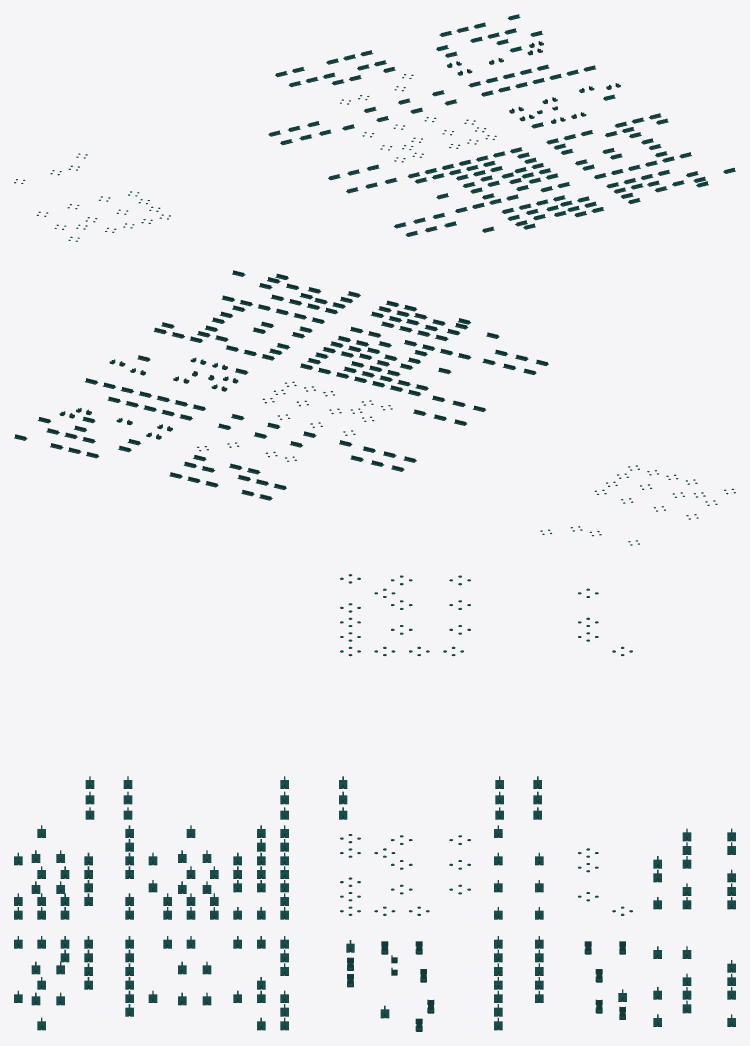
File: seat_teal.dae
The picture shows the model from 3 angles, top to bottom: view 1: azimuth 30°, elevation 25°; view 2: azimuth 150°, elevation 25°; view 3: azimuth 270°, elevation 25°; orthographic projection. The views are drawn at different scales.
Parts seen in each view (by area): view 1: seat_teal; view 2: seat_teal; view 3: seat_teal.
Part boxes in pixels (x1,y1,x2,y2): seat_teal: (14, 14, 735, 241); seat_teal: (14, 270, 735, 545); seat_teal: (14, 574, 735, 1031).
Size of the model in its own units: 148 by 98.68 by 0.82.
